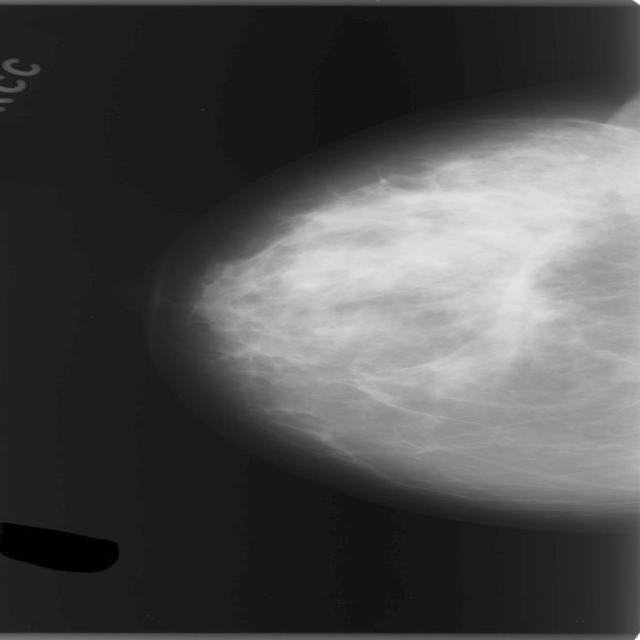tumour: (450, 270, 568, 342)
